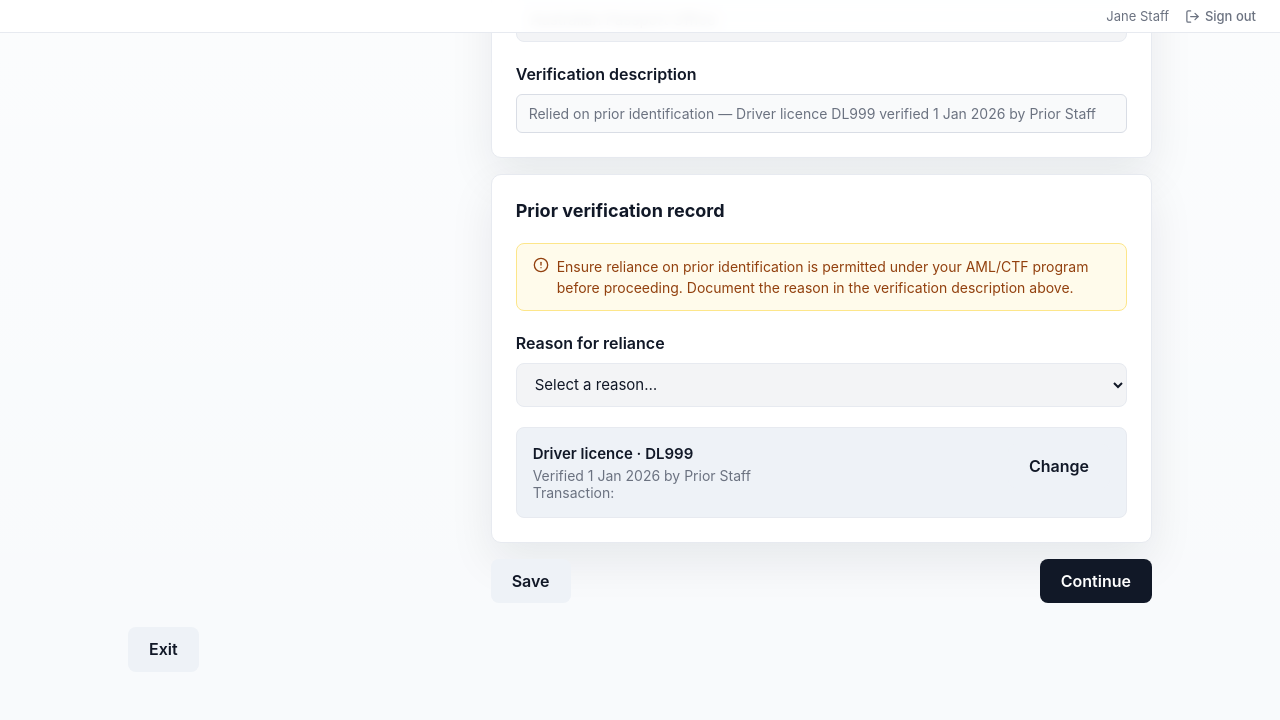
Test case: IdVerificationPage › shows a validation error when reason for reliance is not selected in reliance mode
The image size is (1280, 720).
(page scrolled)
Click the button "Save".
click(531, 581)  # box x1=491 y1=559 x2=571 y2=603
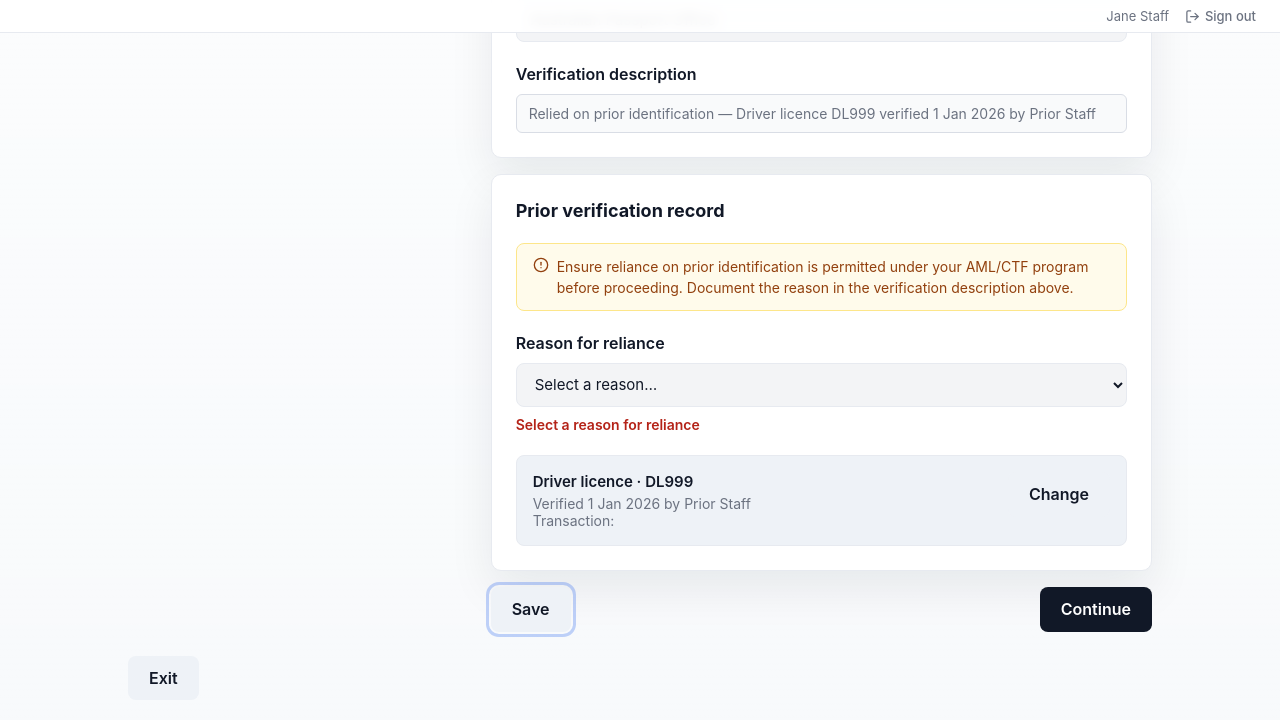
Check: the text "Select a reason for reliance" is shown, box x1=516 y1=416 x2=700 y2=433
